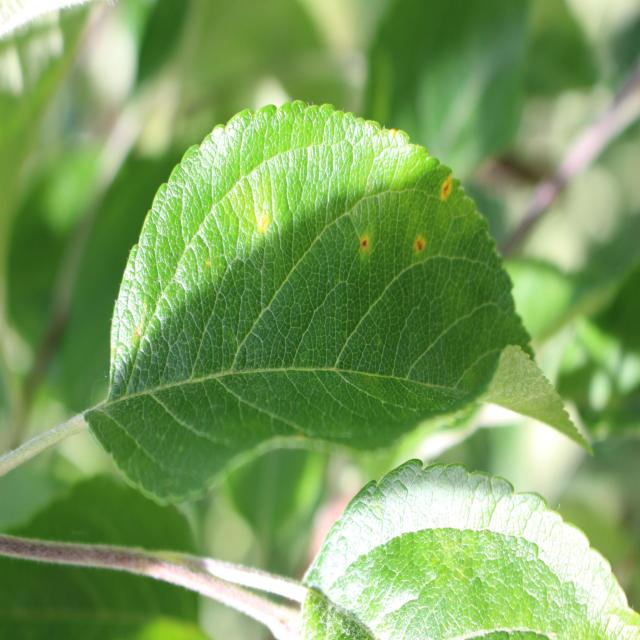Rust: (230, 184, 282, 247), (406, 217, 428, 284), (435, 158, 456, 225), (358, 212, 377, 286)
